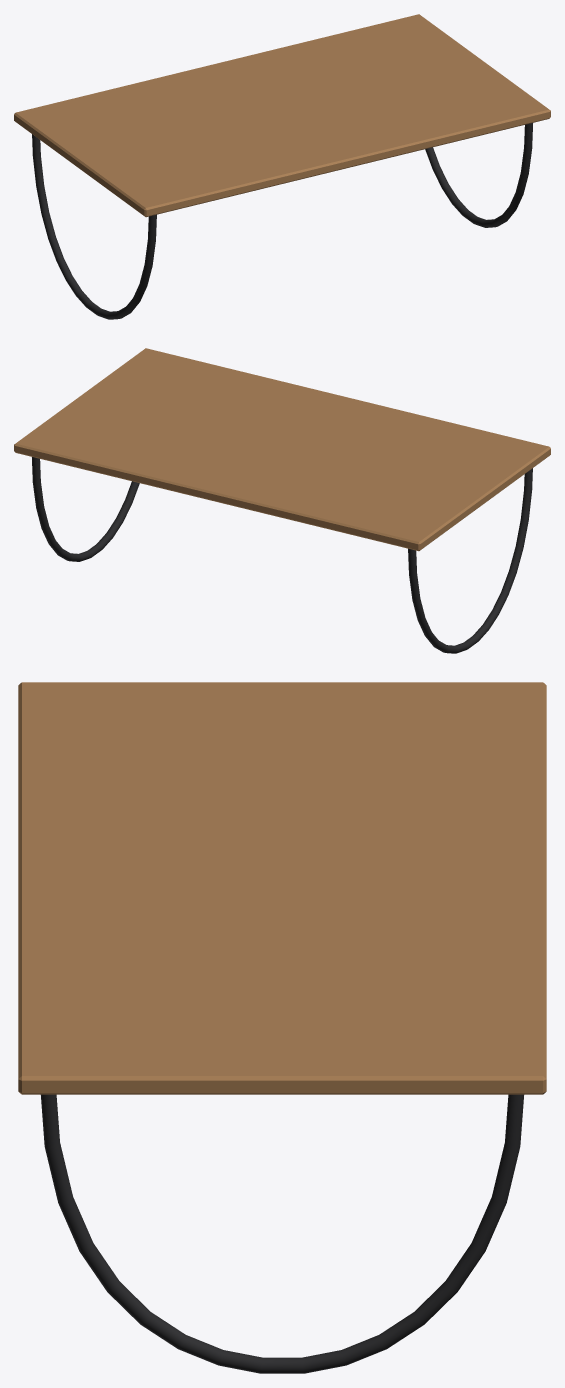
File: i_table_1.glb
3 views of the same model, one above another, from view 1: azimuth 30°, elevation 25°; view 2: azimuth 150°, elevation 25°; view 3: azimuth 270°, elevation 25° (orthographic). The views are drawn at different scales.
Parts seen in each view (by area): view 1: o, o.001, o.002; view 2: o, o.001, o.002; view 3: o, o.002.
Part boxes in pixels (box(x1,y1,x2,y2)): o: box(14, 14, 550, 217); o.001: box(32, 134, 156, 319); o.002: box(425, 123, 532, 227); o: box(14, 348, 550, 551); o.001: box(408, 468, 532, 653); o.002: box(32, 457, 139, 561); o: box(18, 682, 546, 1094); o.002: box(41, 1094, 523, 1373).
Bounding box in the file's own units: 1.6 × 0.5826 × 0.9.
